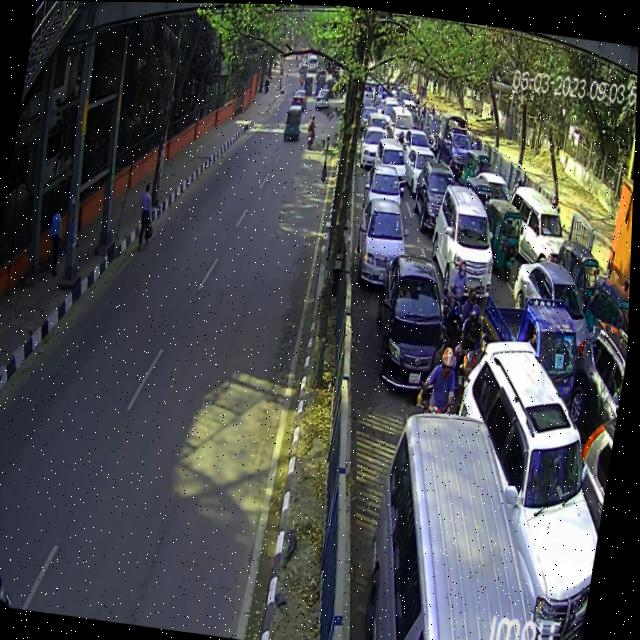cng: (548, 233, 603, 321), (584, 258, 633, 350), (479, 192, 529, 274), (462, 148, 491, 191), (283, 99, 307, 141)
